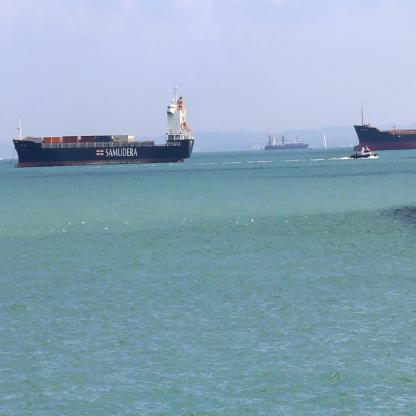Container Ship: (13, 84, 194, 169), (354, 103, 416, 153), (264, 133, 310, 151)
